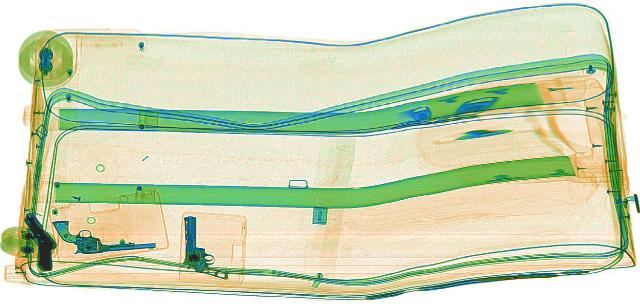Gun: (48, 212, 156, 253), (180, 214, 230, 277), (18, 211, 58, 268)
